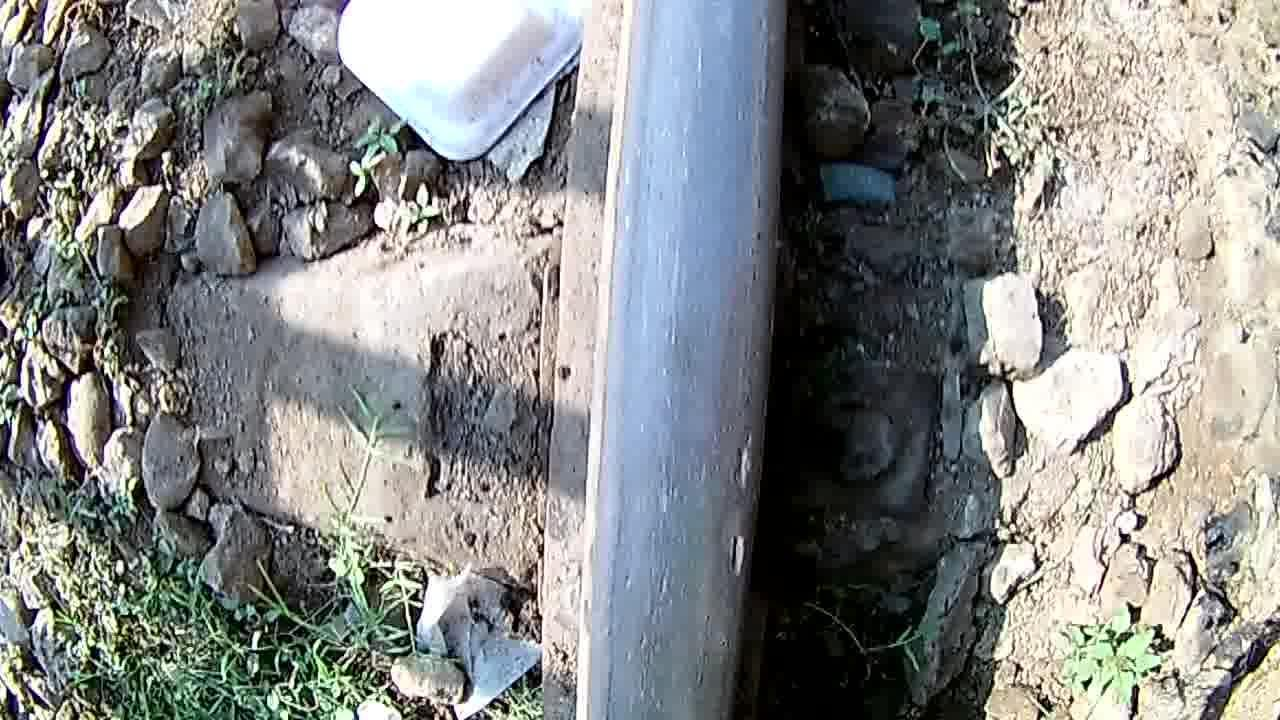crack: (585, 0, 786, 720)
